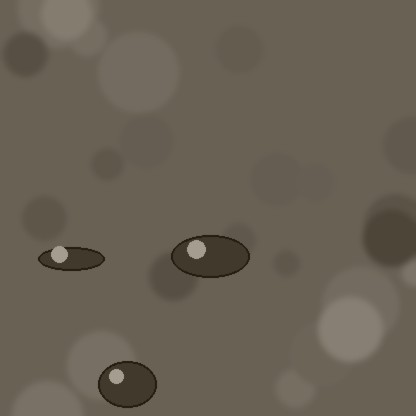gota: (171, 237, 249, 281), (98, 363, 156, 411), (38, 248, 104, 272)
